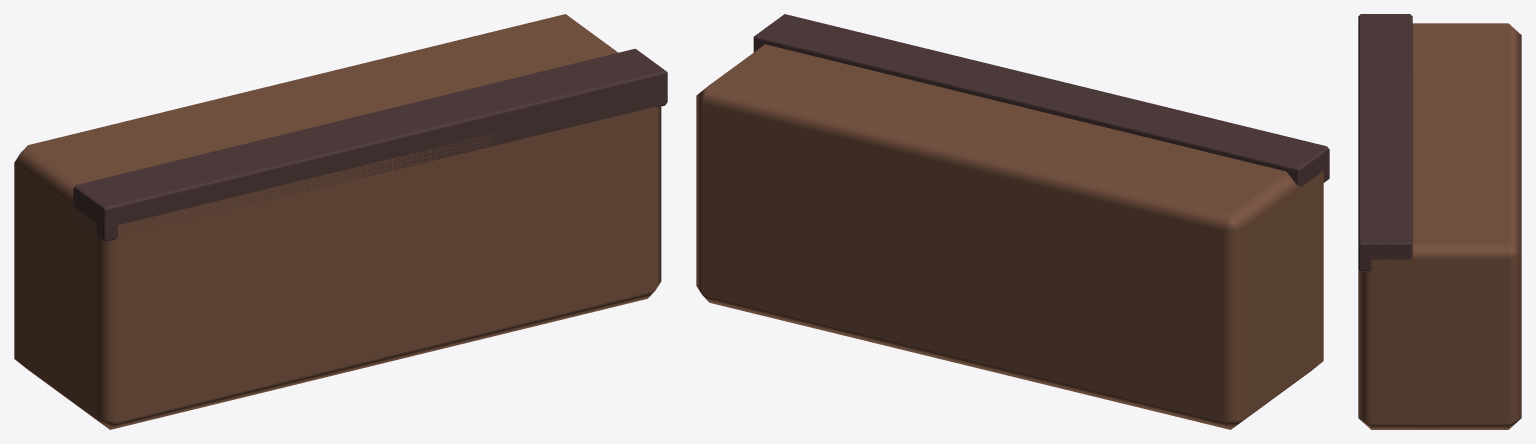
File: ghost-town-stair-riser.c9b9d66a.glb
3 views of the same model, side by side, from view 1: azimuth 30°, elevation 25°; view 2: azimuth 150°, elevation 25°; view 3: azimuth 270°, elevation 25° (orthographic). The views are drawn at different scales.
Visible parts, largest first — view 1: body; view 2: body; view 3: body.
Part boxes in pixels (x1=…): body: x1=14, y1=14, x2=667, y2=429; body: x1=696, y1=14, x2=1329, y2=429; body: x1=1358, y1=14, x2=1521, y2=429.
Size of the model in its own units: 1 by 0.39 by 0.3.
